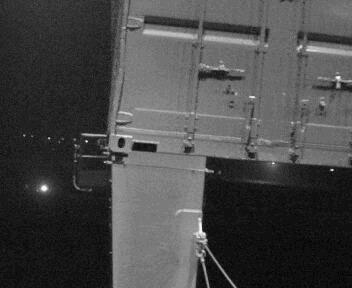twist_lock_1: (105, 150, 130, 172)
